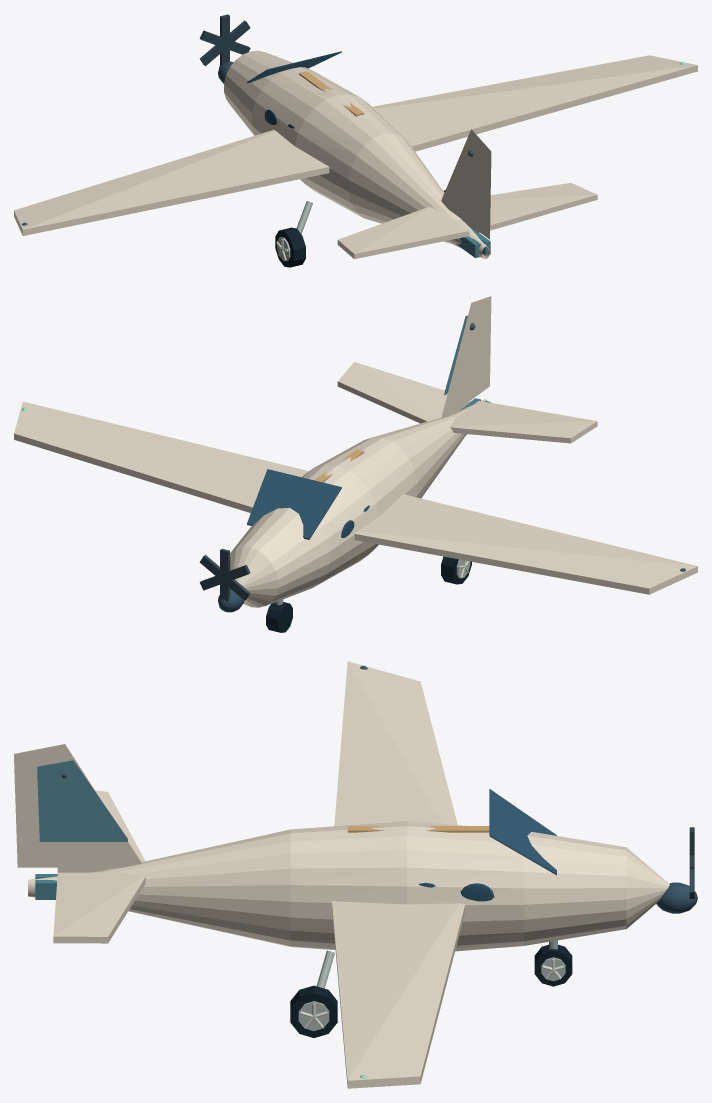
Rendered from trainer.glb.
3 views of the same model, one above another, from view 1: azimuth 30°, elevation 25°; view 2: azimuth 150°, elevation 25°; view 3: azimuth 270°, elevation 25° (orthographic). The views are drawn at different scales.
Parts seen in each view (by area): view 1: trainer; view 2: trainer; view 3: trainer.
Boxes of the visible parts, left/top/right/bottom form: trainer: left=14, top=14, right=697, bottom=267; trainer: left=14, top=296, right=697, bottom=632; trainer: left=14, top=661, right=697, bottom=1088.
Size of the model in its own units: 13.6 by 3.61 by 9.37.
